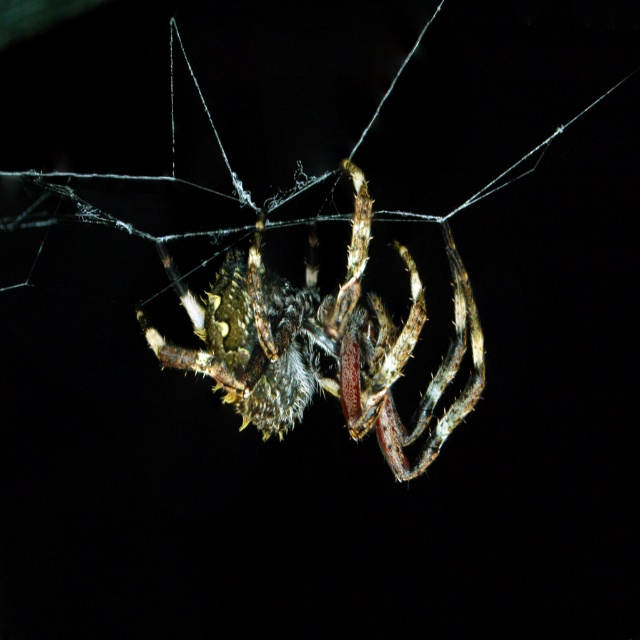Spider: (135, 158, 486, 484)
